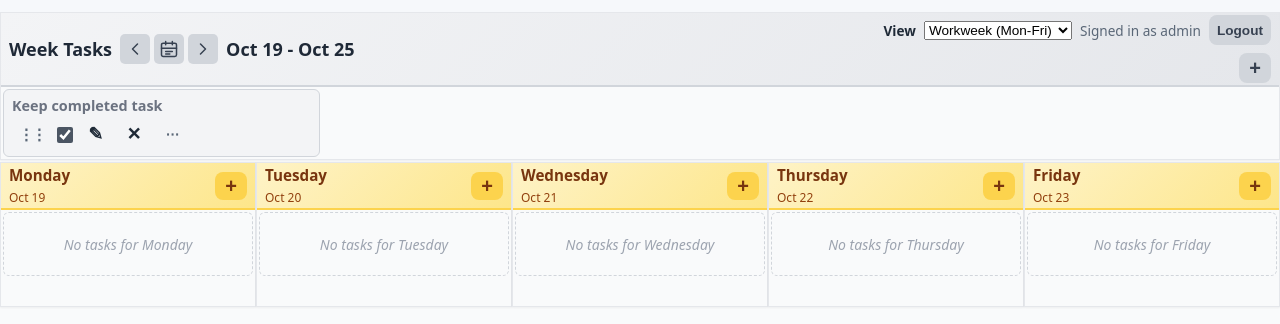
BoardPage week navigation › retains completed presentation and announces update failures
The image size is (1280, 324).
Click the checkbox named "Task 1: Mark as not done Keep completed task" at [65, 135], box [57, 127, 73, 143]
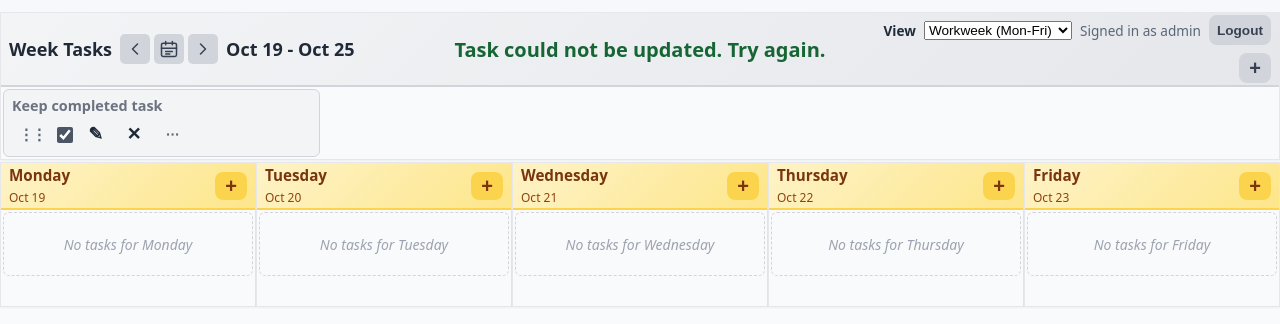
Result: the message reads "Task could not be updated. Try again." at [454, 36, 826, 62]
